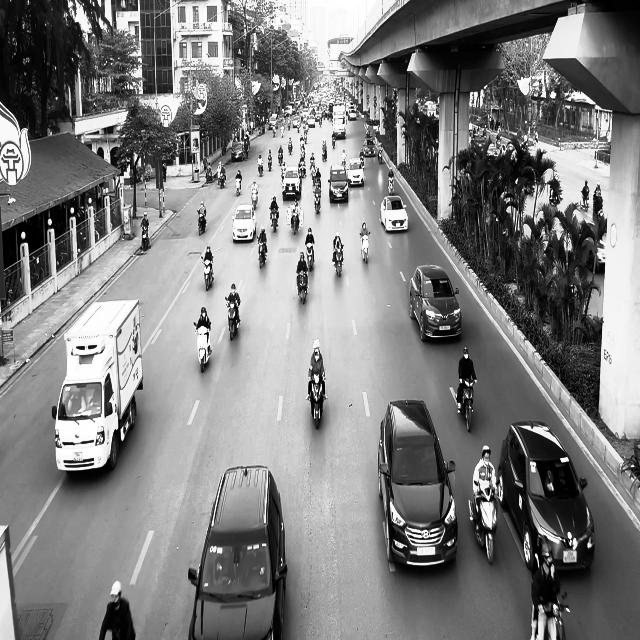car: (187, 464, 288, 640), (497, 420, 595, 572), (377, 398, 458, 568), (409, 264, 462, 342), (380, 195, 408, 232), (232, 204, 256, 242), (328, 164, 348, 203), (281, 167, 302, 200), (346, 158, 364, 187), (230, 141, 244, 161)
motorbike: (468, 478, 499, 564), (534, 598, 570, 639), (456, 377, 477, 432), (308, 373, 326, 429), (193, 321, 212, 372), (224, 296, 240, 340), (200, 255, 214, 290), (296, 270, 309, 304), (359, 232, 370, 263), (333, 246, 344, 277), (258, 239, 267, 268), (269, 206, 279, 232), (305, 242, 314, 270), (197, 209, 206, 236), (290, 210, 300, 234), (141, 226, 150, 252), (313, 185, 321, 213), (387, 175, 394, 195), (235, 177, 242, 196), (322, 146, 327, 161), (267, 156, 272, 171), (332, 132, 336, 148)
truck: (52, 298, 143, 473)
